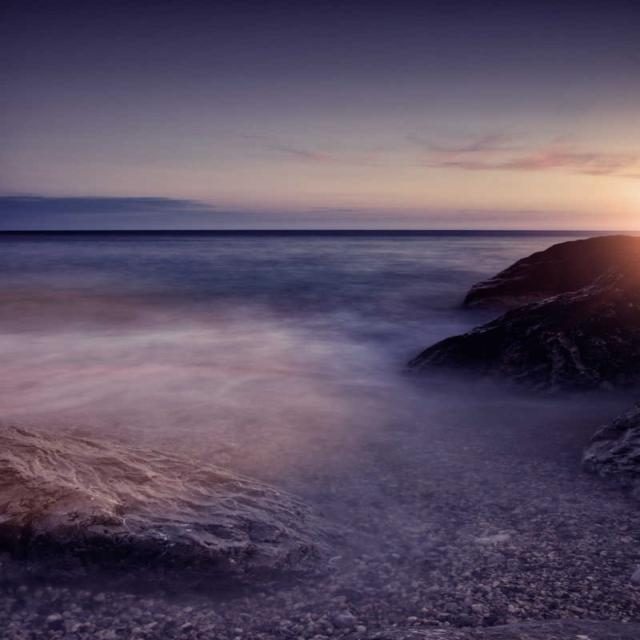reef: (402, 232, 628, 390)
